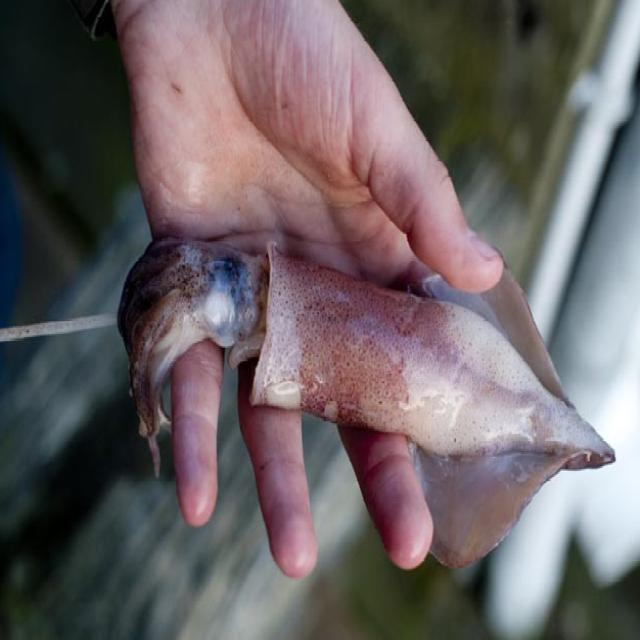SQUID: (55, 200, 628, 544)
